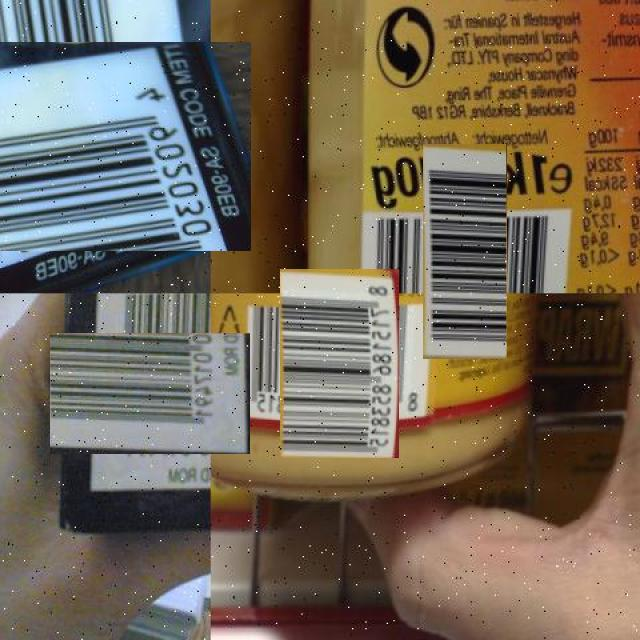Barcode: (0, 20, 230, 272), (70, 313, 230, 474), (263, 286, 417, 441), (390, 176, 540, 326)
